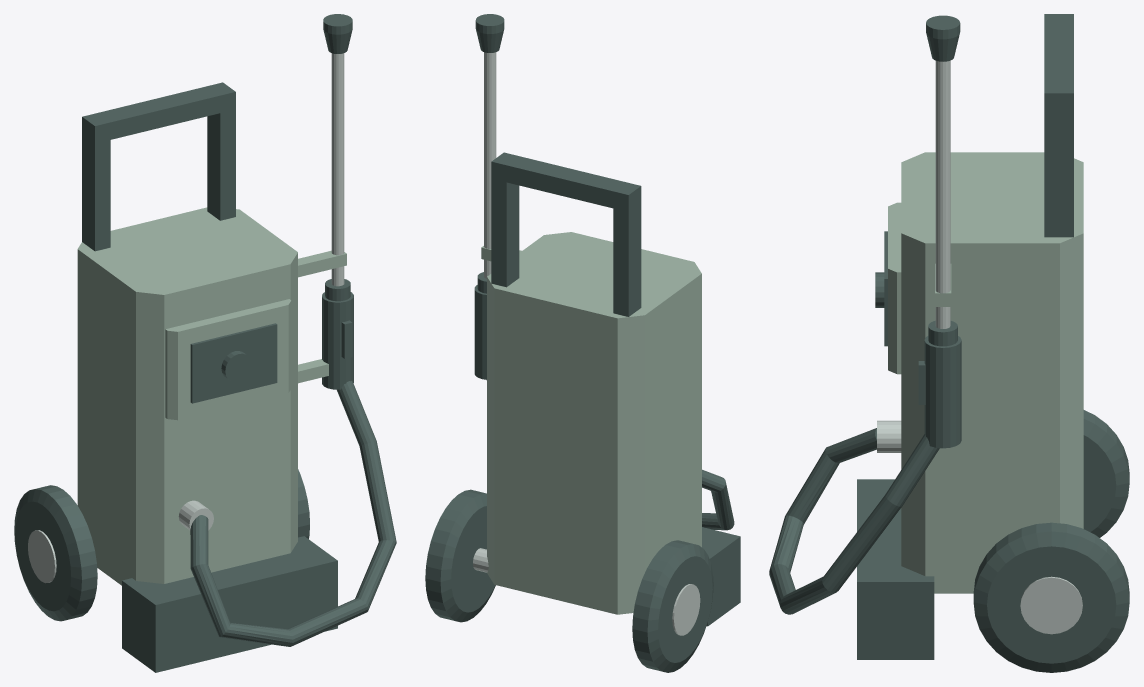
The picture shows the model from 3 angles, left to right: view 1: azimuth 30°, elevation 25°; view 2: azimuth 150°, elevation 25°; view 3: azimuth 270°, elevation 25°; orthographic projection. The views are drawn at different scales.
Visible parts, largest first — view 1: WholeTallChamferedMotorHousing, WholeBroadFrontGroundFoot, WholeTrueOpenPullingHandle, WholeContinuousCurvedExteriorHose, WholeRearWheel_-1, WholeRaisedFrontControlHousing, WholeBlankControlPanel, WholeStraightParkedLance, WholeParkedLanceGrip, WholeRecessedWheelHub_-1, WholeBluntExteriorNozzle, WholeFiniteLanceParkingBracket_Upper (+4 smaller); view 2: WholeTallChamferedMotorHousing, WholeTrueOpenPullingHandle, WholeRearWheel_-1, WholeRearWheel_1, WholeBroadFrontGroundFoot, WholeStraightParkedLance, WholeContinuousCurvedExteriorHose, WholeParkedLanceGrip, WholeRecessedWheelHub_-1, WholeBluntExteriorNozzle; view 3: WholeTallChamferedMotorHousing, WholeRearWheel_1, WholeBroadFrontGroundFoot, WholeContinuousCurvedExteriorHose, WholeTrueOpenPullingHandle, WholeRearWheel_-1, WholeStraightParkedLance, WholeParkedLanceGrip, WholeRecessedWheelHub_1, WholeRaisedFrontControlHousing, WholeBluntExteriorNozzle, WholeLowerFrontHoseCoupling (+1 smaller).
Boxes of the visible parts, x1,y1,x2,y2 form: WholeTallChamferedMotorHousing: (77, 207, 297, 585); WholeBroadFrontGroundFoot: (122, 536, 337, 672); WholeTrueOpenPullingHandle: (82, 82, 235, 251); WholeContinuousCurvedExteriorHose: (190, 381, 396, 646); WholeRearWheel_-1: (14, 485, 97, 621); WholeRaisedFrontControlHousing: (165, 299, 291, 420); WholeBlankControlPanel: (190, 323, 277, 403); WholeStraightParkedLance: (331, 53, 344, 286); WholeParkedLanceGrip: (322, 292, 353, 389); WholeRecessedWheelHub_-1: (28, 530, 56, 583); WholeBluntExteriorNozzle: (323, 14, 352, 53); WholeFiniteLanceParkingBracket_Upper: (298, 250, 346, 277); WholeTallChamferedMotorHousing: (487, 232, 701, 614); WholeTrueOpenPullingHandle: (491, 152, 641, 316); WholeRearWheel_-1: (632, 540, 713, 672); WholeRearWheel_1: (425, 489, 495, 622); WholeBroadFrontGroundFoot: (702, 527, 740, 626); WholeStraightParkedLance: (484, 52, 496, 278); WholeContinuousCurvedExteriorHose: (486, 380, 734, 530); WholeParkedLanceGrip: (474, 285, 486, 379); WholeRecessedWheelHub_-1: (672, 584, 700, 635); WholeBluntExteriorNozzle: (475, 14, 504, 52); WholeTallChamferedMotorHousing: (901, 152, 1083, 593); WholeRearWheel_1: (973, 522, 1129, 672); WholeBroadFrontGroundFoot: (857, 479, 934, 659); WholeContinuousCurvedExteriorHose: (769, 428, 939, 614); WholeTrueOpenPullingHandle: (1044, 14, 1073, 237); WholeRearWheel_-1: (1083, 410, 1129, 537); WholeStraightParkedLance: (935, 60, 950, 328); WholeParkedLanceGrip: (924, 336, 961, 448); WholeRecessedWheelHub_1: (1020, 576, 1082, 634); WholeRaisedFrontControlHousing: (888, 202, 901, 374); WholeBluntExteriorNozzle: (926, 15, 960, 61); WholeLowerFrontHoseCoupling: (877, 420, 901, 452).
Size of the model in its own units: 0.4759 by 0.977 by 0.4848.
